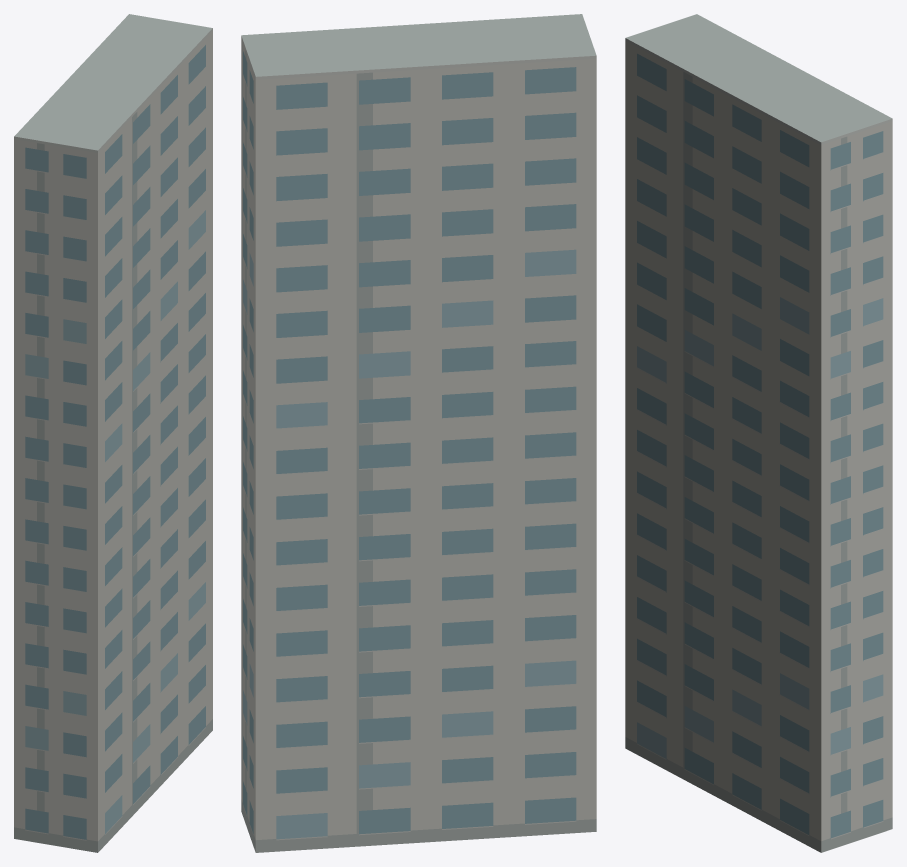
Rendered from residential-93a5b849-fd5e-42db-8ba7-bf5df3883059.glb.
The picture shows the model from 3 angles, left to right: view 1: azimuth 30°, elevation 25°; view 2: azimuth 150°, elevation 25°; view 3: azimuth 270°, elevation 25°; orthographic projection. The views are drawn at different scales.
Parts seen in each view (by area): view 1: residential-93a5b849-fd5e-42db-8ba7-bf5df3883059.tmp; view 2: residential-93a5b849-fd5e-42db-8ba7-bf5df3883059.tmp; view 3: residential-93a5b849-fd5e-42db-8ba7-bf5df3883059.tmp.
Part boxes in pixels (bbox=[...]): residential-93a5b849-fd5e-42db-8ba7-bf5df3883059.tmp: bbox=[14, 14, 212, 852]; residential-93a5b849-fd5e-42db-8ba7-bf5df3883059.tmp: bbox=[241, 14, 596, 852]; residential-93a5b849-fd5e-42db-8ba7-bf5df3883059.tmp: bbox=[625, 14, 892, 852].
Bounding box in the file's own units: 24.43 × 63 × 21.49.
